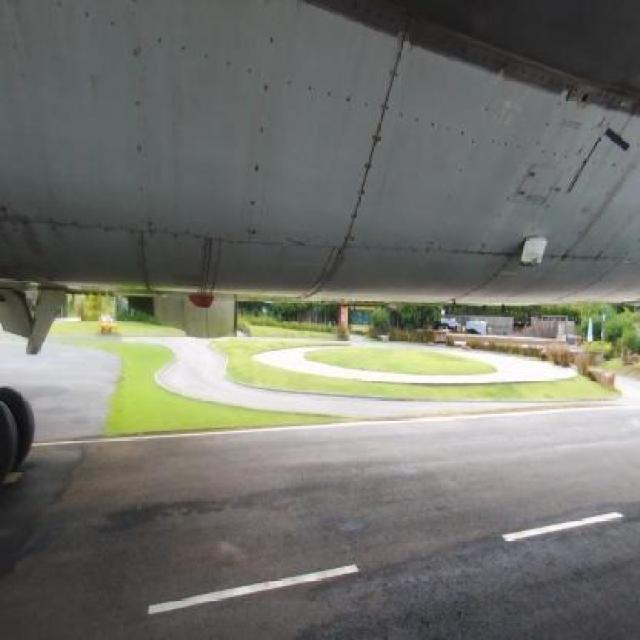Missing-Rivet: (56, 3, 261, 91), (263, 24, 406, 130), (448, 29, 584, 102), (418, 111, 577, 166), (44, 211, 215, 254), (360, 232, 498, 276), (338, 134, 382, 254), (123, 96, 155, 255), (424, 162, 478, 242), (490, 162, 536, 248), (514, 250, 620, 284), (235, 160, 271, 251)
